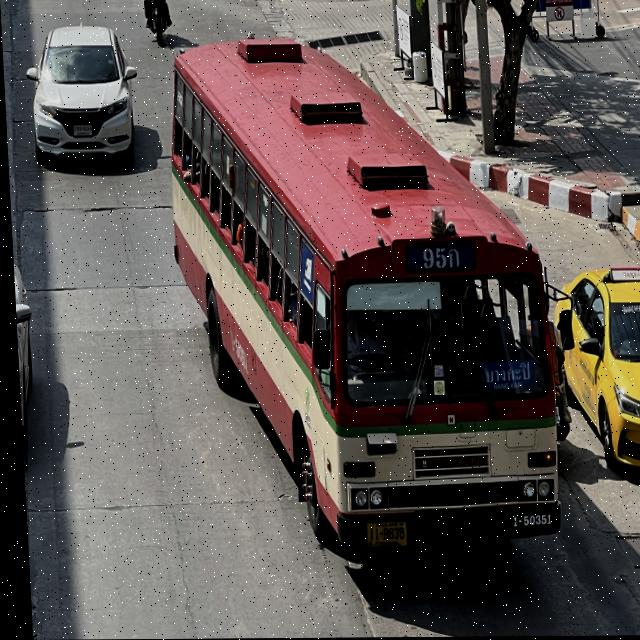BMTA-bus: (162, 36, 564, 557)
Bus-Line-Number: (401, 237, 477, 279)
Destination-Sign-Normal: (474, 363, 530, 392)
